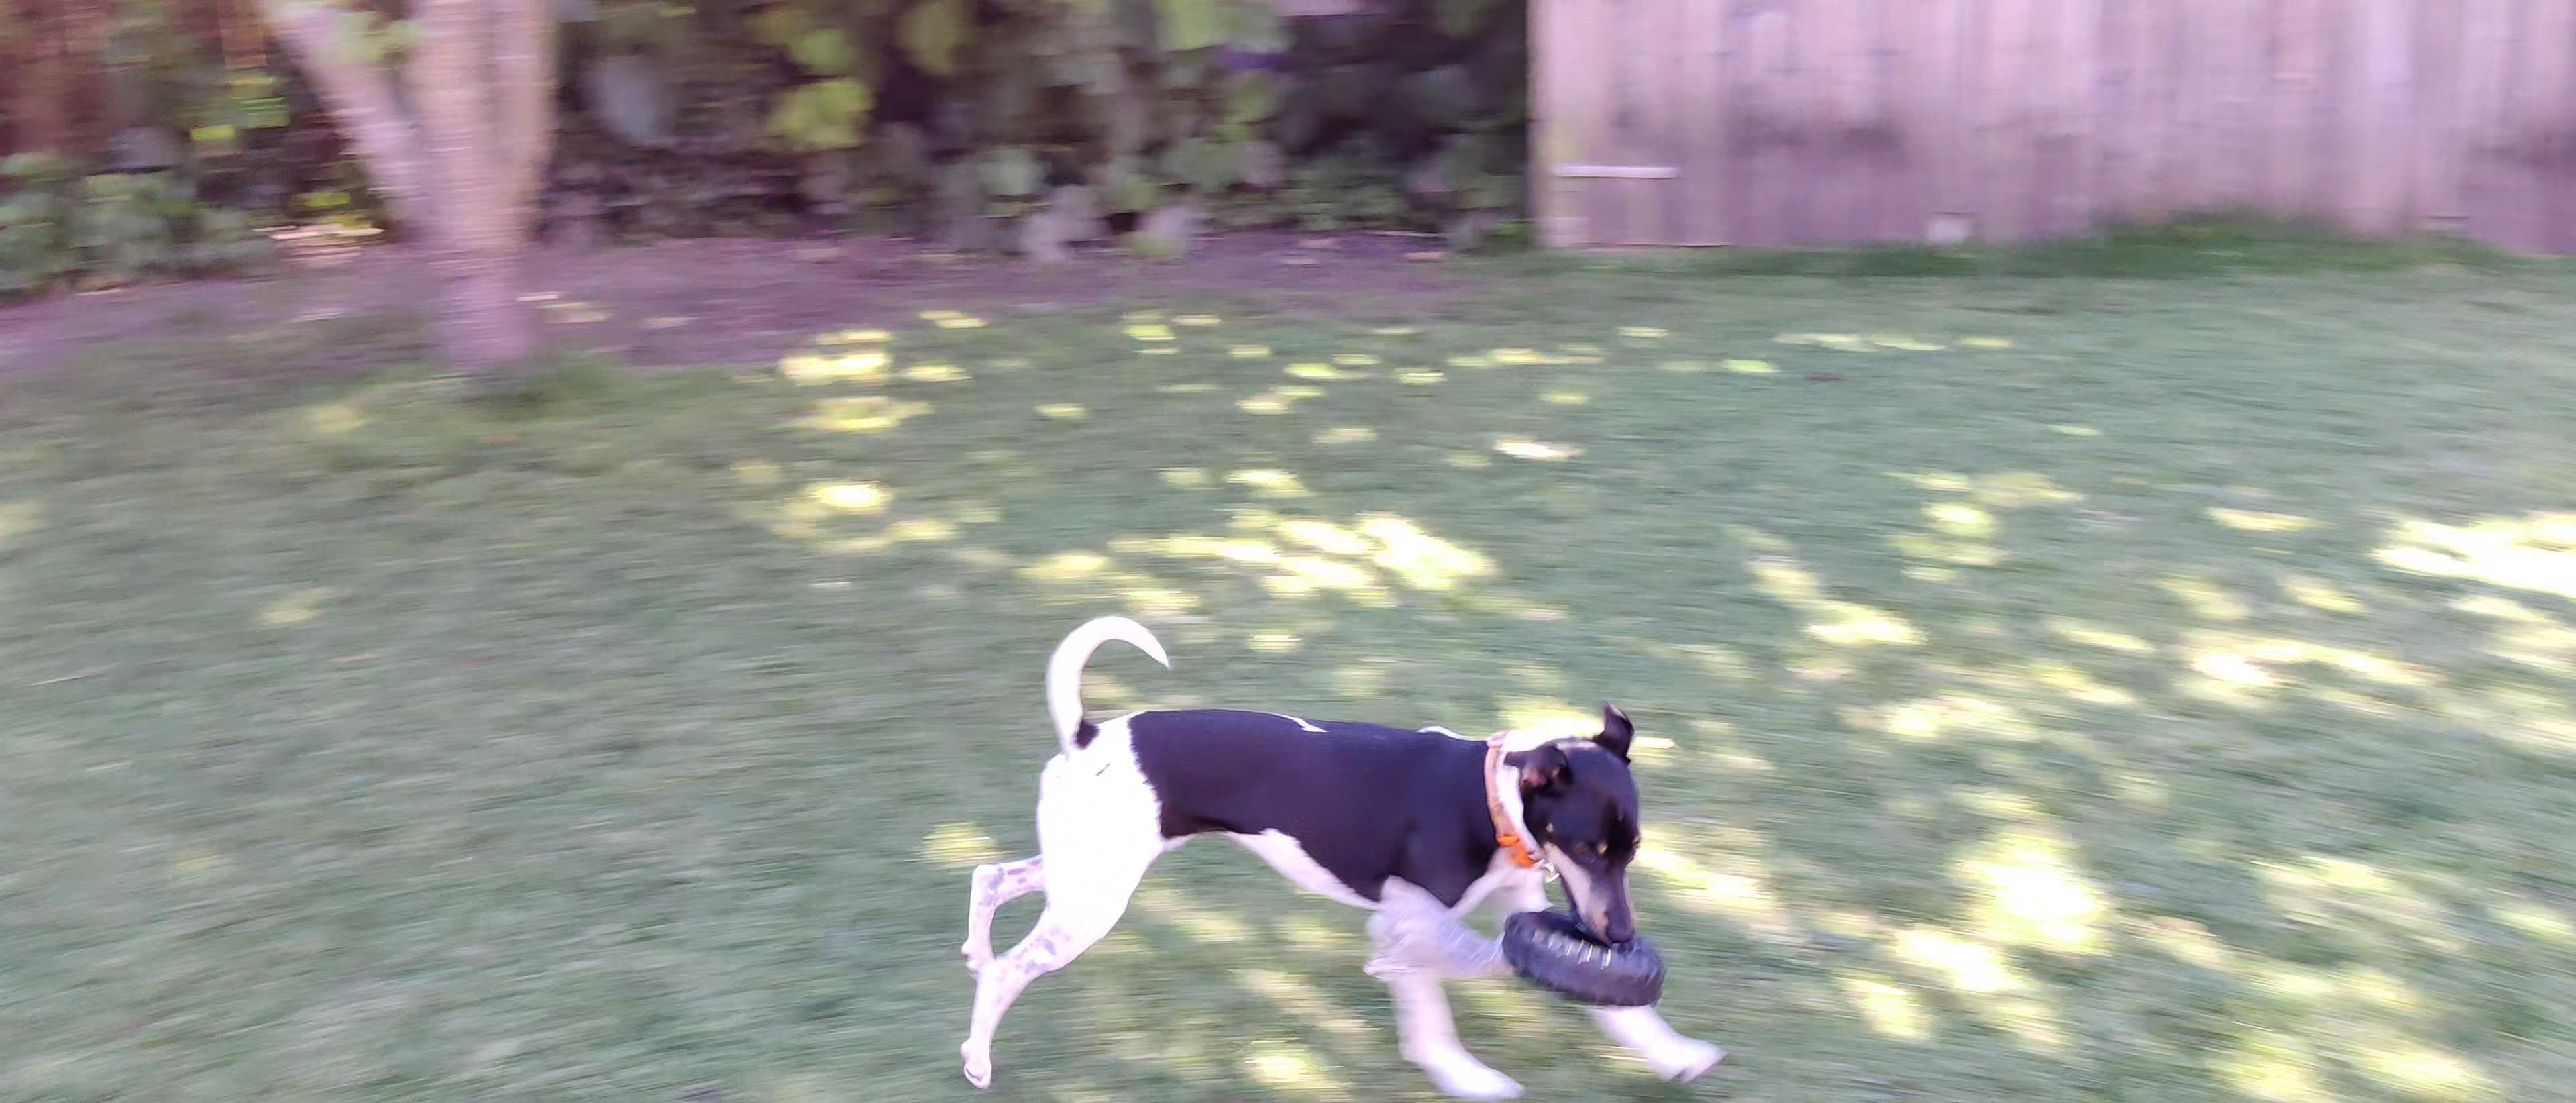Dog: (943, 603, 1740, 1103)
